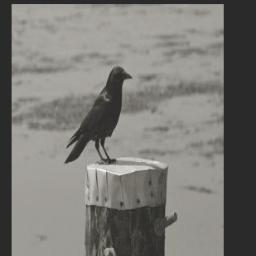Crow: (62, 62, 133, 169)
